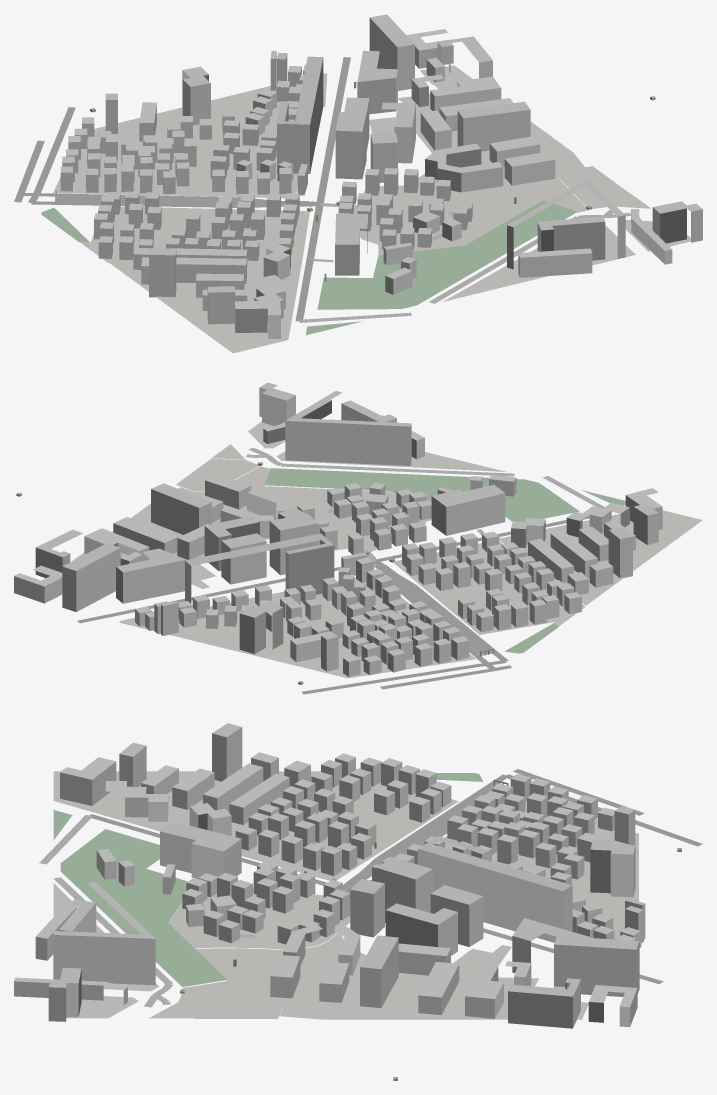
The picture shows the model from 3 angles, top to bottom: view 1: azimuth 30°, elevation 25°; view 2: azimuth 150°, elevation 25°; view 3: azimuth 270°, elevation 25°; orthographic projection. The views are drawn at different scales.
Bounding box in the file's own units: 633 × 51.89 × 588.
